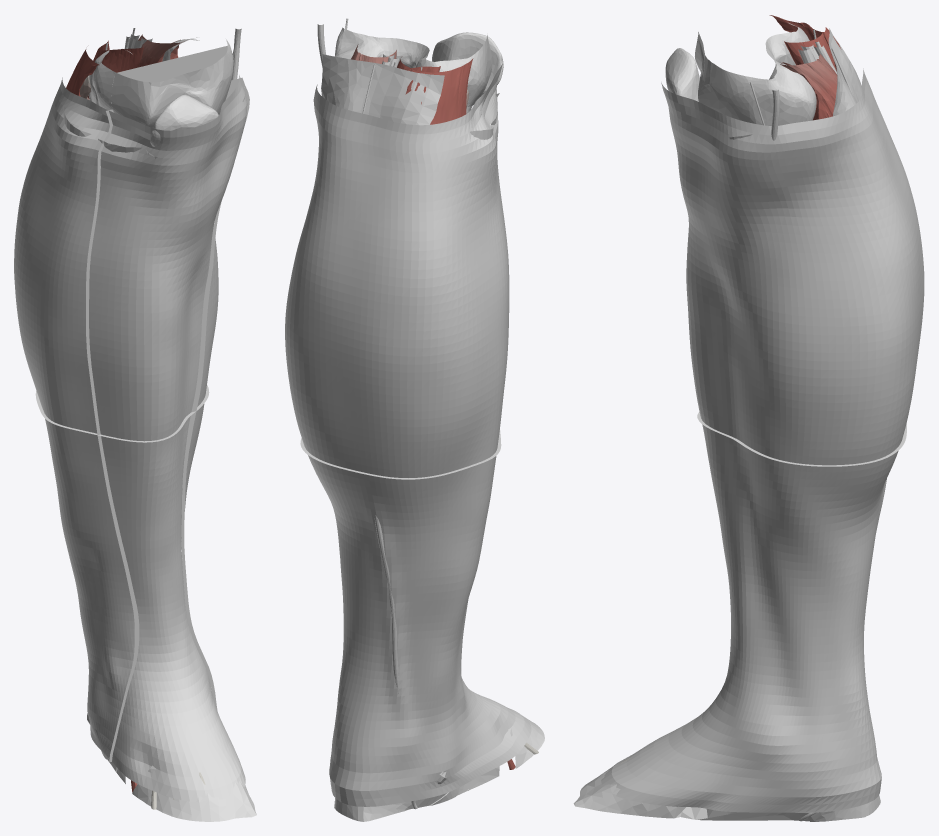
The model's file is leg-anatomy-v0.4.glb.
3 renders of one model, left to right at view 1: azimuth 30°, elevation 25°; view 2: azimuth 150°, elevation 25°; view 3: azimuth 270°, elevation 25°, orthographic. The views are drawn at different scales.
Parts seen in each view (by area): view 1: fat, fem, skin~z, crural, fem~z, pat, plant, gasl, gasm, skin~y; view 2: fat, popf, fem, crural, gasl, pat, ssv, skin~y; view 3: fat, fem, crural, gasm, pat, popf.
Part boxes in pixels (x1=…): fat: x1=14, y1=75, x2=247, y2=801; fem: x1=88, y1=37, x2=233, y2=127; skin~z: x1=86, y1=77, x2=249, y2=762; crural: x1=63, y1=97, x2=256, y2=821; fem~z: x1=111, y1=46, x2=233, y2=103; pat: x1=150, y1=95, x2=218, y2=146; plant: x1=88, y1=47, x2=143, y2=98; gasl: x1=66, y1=40, x2=109, y2=96; gasm: x1=138, y1=34, x2=184, y2=67; skin~y: x1=35, y1=385, x2=209, y2=442; fat: x1=285, y1=63, x2=531, y2=806; popf: x1=321, y1=54, x2=444, y2=125; fem: x1=334, y1=27, x2=492, y2=113; crural: x1=335, y1=93, x2=544, y2=821; gasl: x1=405, y1=58, x2=473, y2=124; pat: x1=432, y1=32, x2=503, y2=105; ssv: x1=374, y1=61, x2=468, y2=809; skin~y: x1=300, y1=430, x2=501, y2=479; fat: x1=601, y1=68, x2=924, y2=812; fem: x1=695, y1=22, x2=816, y2=125; crural: x1=573, y1=73, x2=880, y2=821; gasm: x1=780, y1=48, x2=837, y2=120; pat: x1=665, y1=48, x2=699, y2=101; popf: x1=828, y1=28, x2=857, y2=116.
Bounding box in the file's own units: 12.31 × 44.2 × 18.59.
